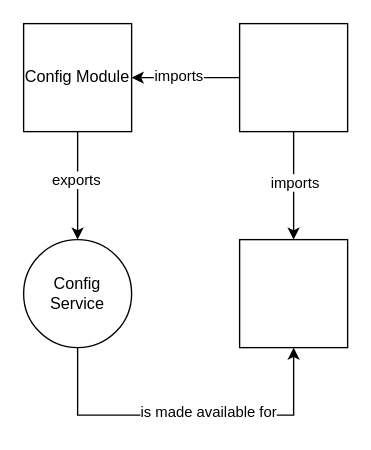
Some shapes in this 371 by 450 pixel diagram are drawn without their labels. The shapes that lost their labels are listed below. From the top down, each one's centre as x and y in pixels, then its label:
[293,77]: App Module
[293,293]: Database Module
